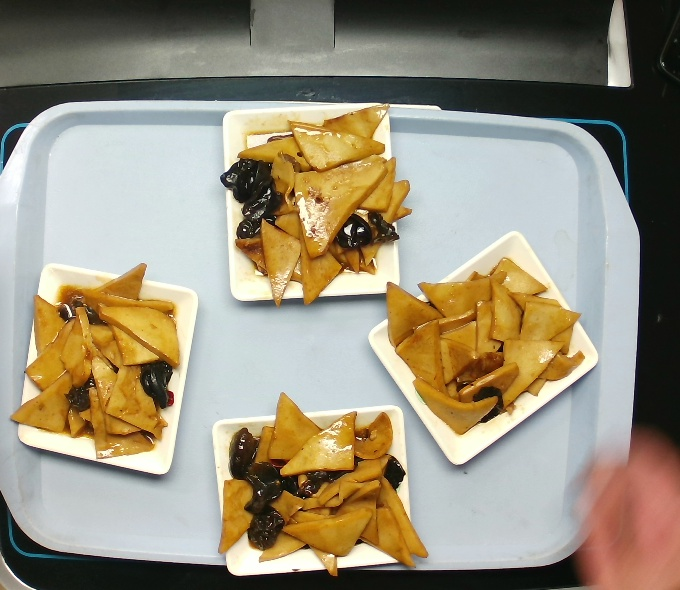wcq-QianYeDouFuChaoMuEr: (213, 96, 421, 314), (216, 387, 436, 582), (376, 251, 590, 441), (6, 259, 185, 464)
